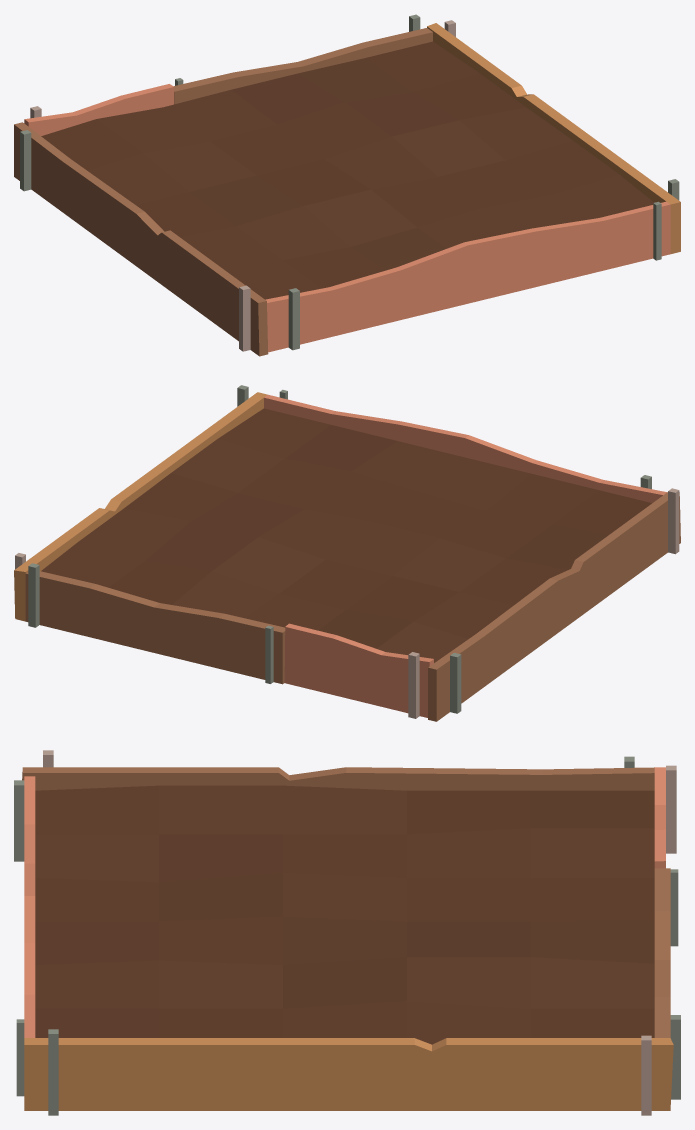
File: Seedbed1.fbx
3 views of the same model, one above another, from view 1: azimuth 30°, elevation 25°; view 2: azimuth 150°, elevation 25°; view 3: azimuth 270°, elevation 25° (orthographic). The views are drawn at different scales.
Visible parts, largest first — view 1: Seedbed1; view 2: Seedbed1; view 3: Seedbed1.
Part boxes in pixels (box(x1,y1,x2,y2)): Seedbed1: box(14, 14, 680, 356); Seedbed1: box(14, 385, 680, 721); Seedbed1: box(14, 750, 680, 1115).
Size of the model in its own units: 217 by 29.68 by 215.
